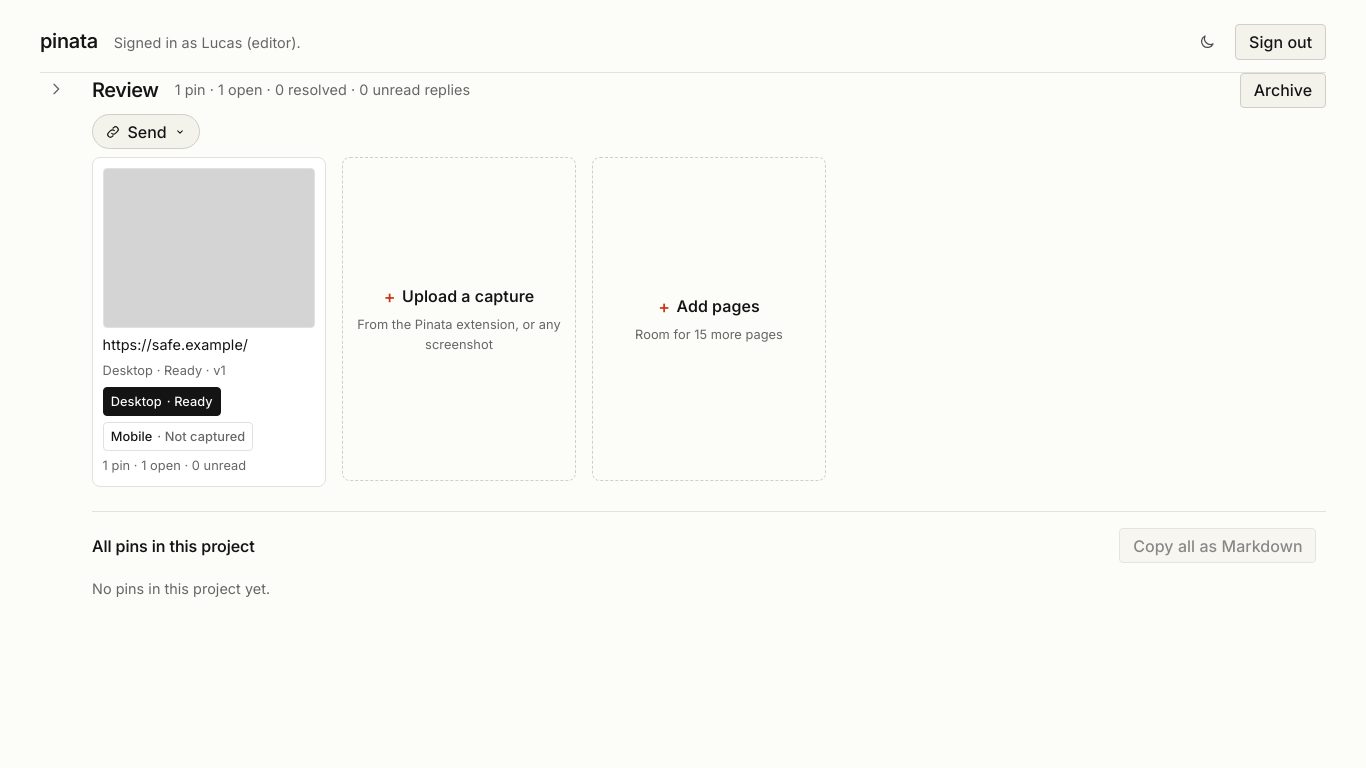
Test: editor live refresh (D097) › header and documentation exits stay unavailable until a Send issue resolves
This screenshot has width=1366, height=768.
Click the button "Send" at coordinates (146, 132), box [92,114,200,149]
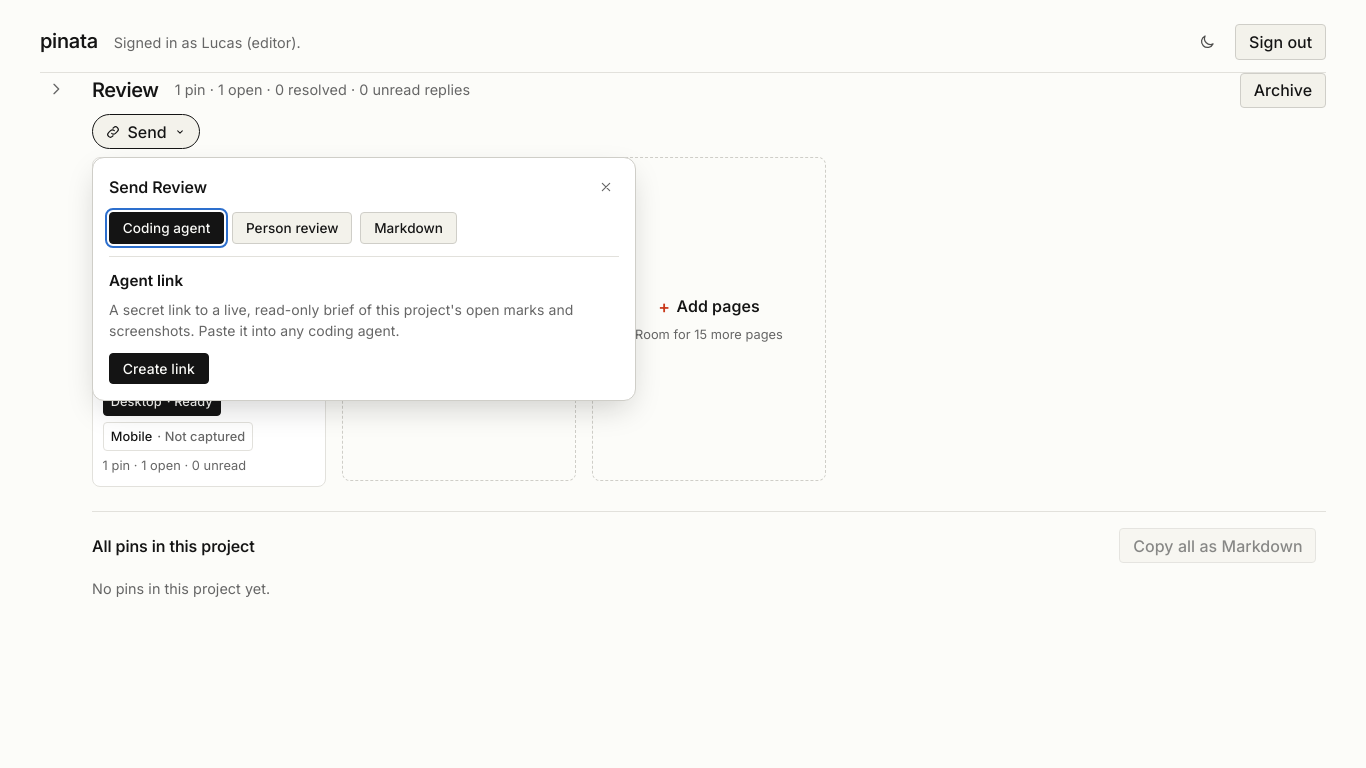
Click the button "Create link" at coordinates (159, 369), box [109,353,208,384]
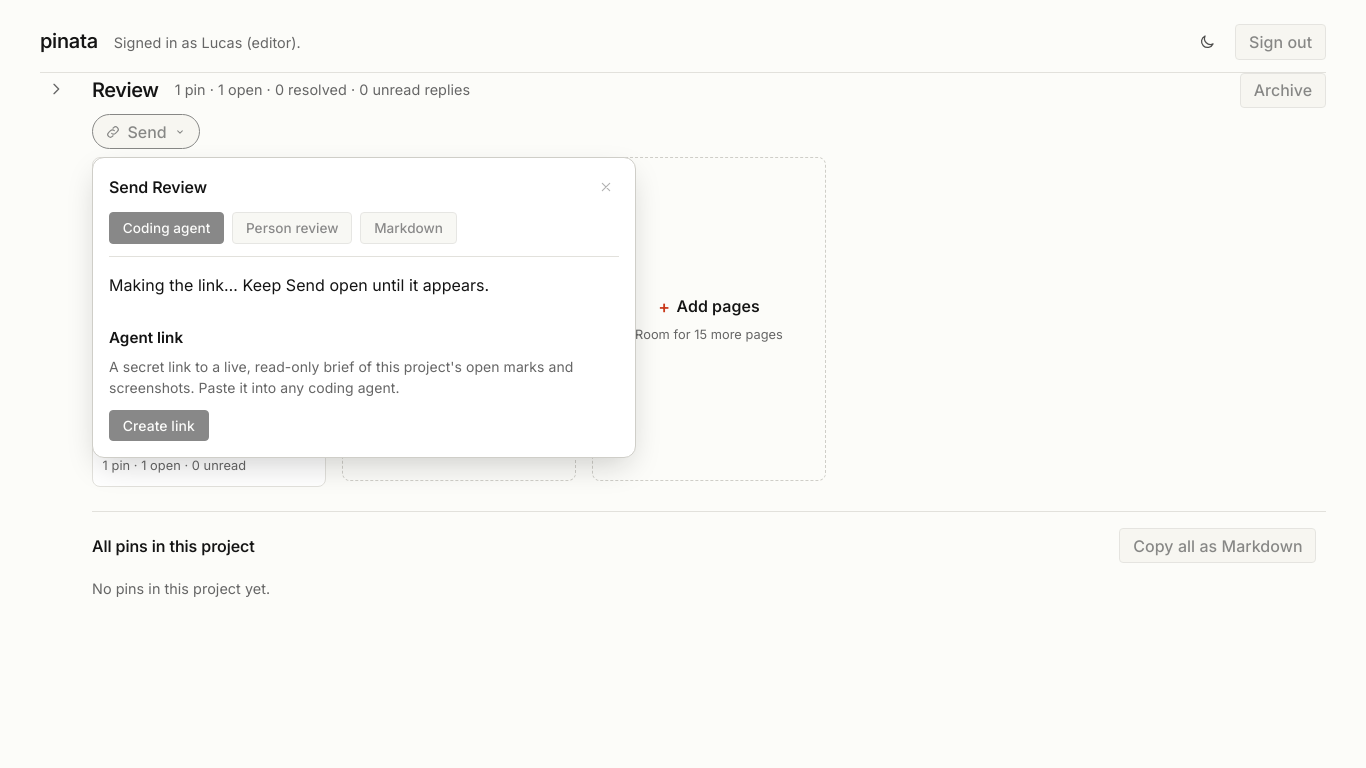
Expected: the button "Sign out" is disabled, [1235,24,1326,60]
Click the link "pinata" at coordinates (69, 41), box [40,26,98,57]
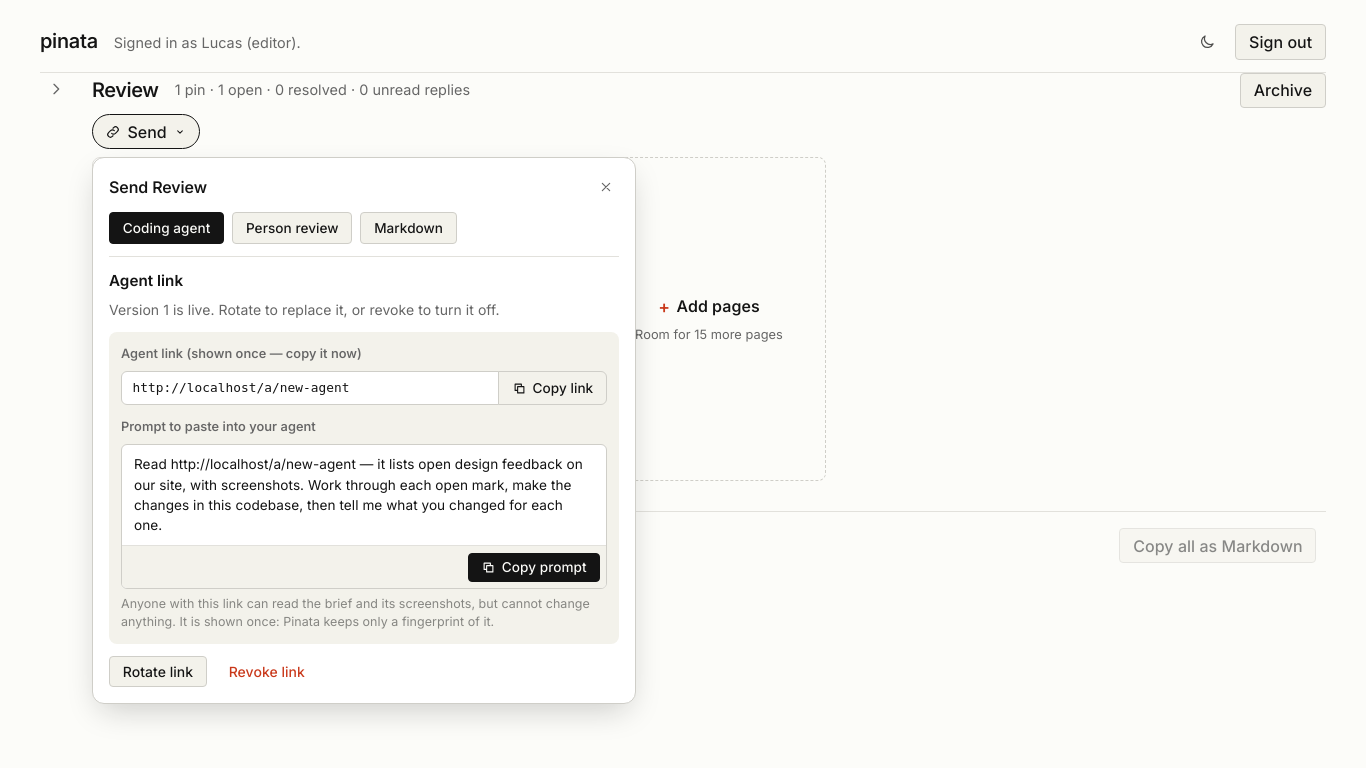
Expected: the field labelled "Agent link (shown once — copy it now)" is shown, [121,370,499,405]
Expected: the button "Sign out" is enabled, [1235,24,1326,60]
